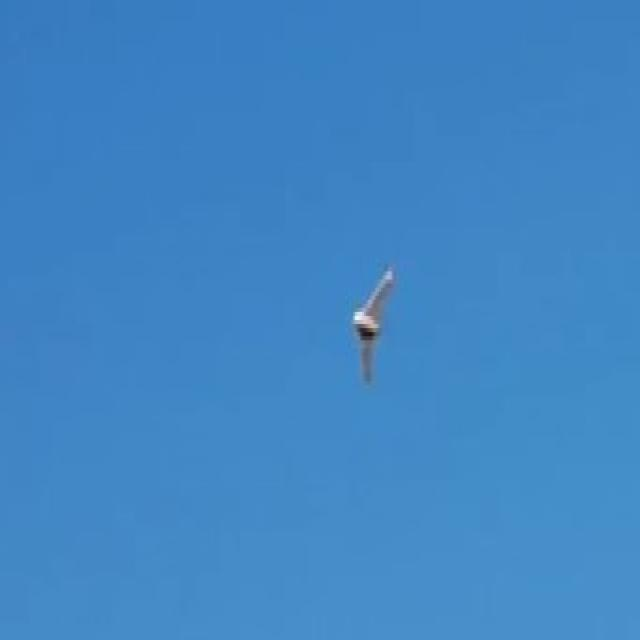iha: (350, 292, 396, 354)
